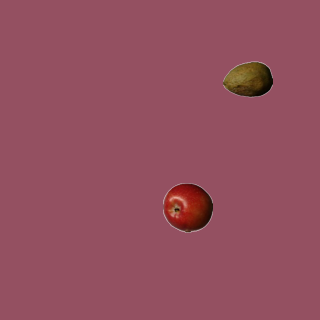Apple Braeburn: (162, 182, 212, 232)
Papaya: (222, 54, 272, 104)
